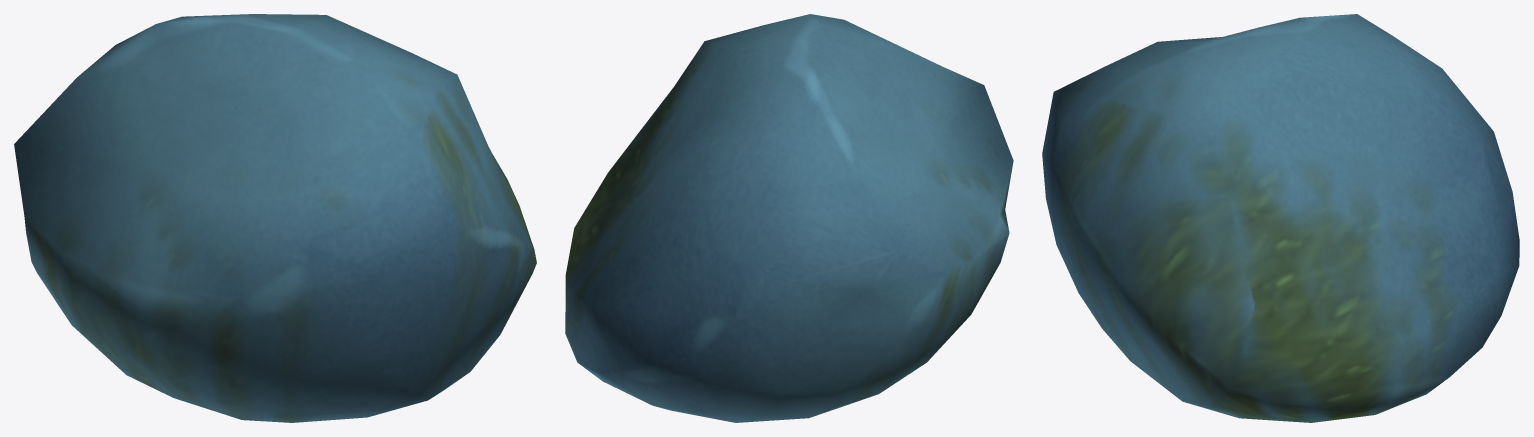
The model's file is Stone_02.fbx.
3 renders of one model, left to right at view 1: azimuth 30°, elevation 25°; view 2: azimuth 150°, elevation 25°; view 3: azimuth 270°, elevation 25°, orthographic. The views are drawn at different scales.
Visible parts, largest first — view 1: Cube.009; view 2: Cube.009; view 3: Cube.009.
Boxes of the visible parts, left/top/right/bottom form: Cube.009: left=14, top=14, right=536, bottom=422; Cube.009: left=565, top=14, right=1013, bottom=422; Cube.009: left=1042, top=14, right=1519, bottom=422.
Bounding box in the file's own units: 236 × 188 × 244.
